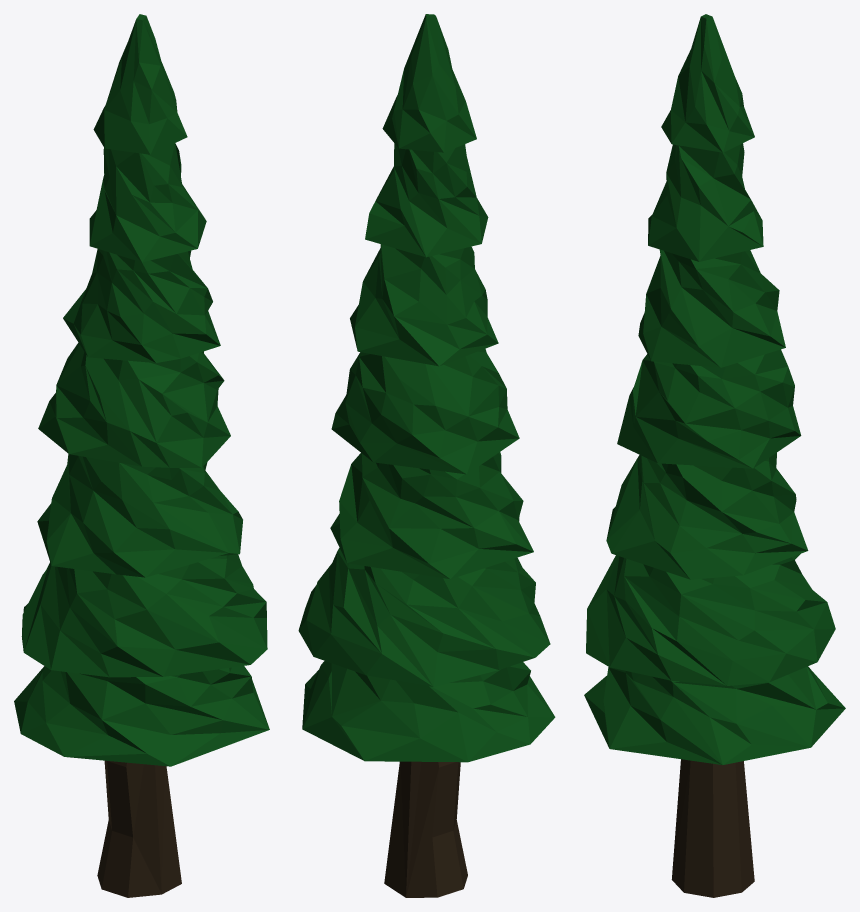
File: PineTree001.fbx
The picture shows the model from 3 angles, left to right: view 1: azimuth 30°, elevation 25°; view 2: azimuth 150°, elevation 25°; view 3: azimuth 270°, elevation 25°; orthographic projection.
Parts seen in each view (by area): view 1: PineTree001; view 2: PineTree001; view 3: PineTree001.
Part boxes in pixels (<box>): PineTree001: <box>14,14,269,897</box>; PineTree001: <box>298,14,555,897</box>; PineTree001: <box>584,14,845,897</box>.
Size of the model in its own units: 80.97 by 293 by 80.39.
